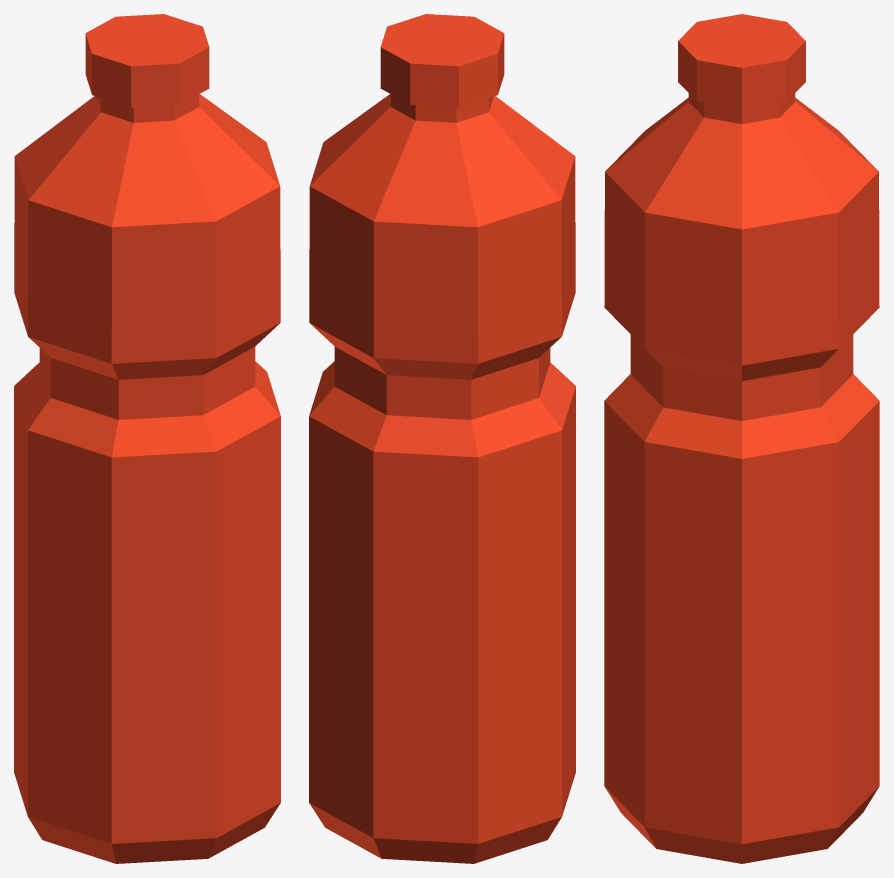
Rendered from SM_Bottle_City.fbx.
The picture shows the model from 3 angles, left to right: view 1: azimuth 30°, elevation 25°; view 2: azimuth 150°, elevation 25°; view 3: azimuth 270°, elevation 25°; orthographic projection.
Parts seen in each view (by area): view 1: SM_Bottle_City; view 2: SM_Bottle_City; view 3: SM_Bottle_City.
Boxes of the visible parts, x1,y1,x2,y2 form: SM_Bottle_City: (14, 14, 280, 863); SM_Bottle_City: (309, 14, 575, 863); SM_Bottle_City: (604, 14, 879, 863).
Size of the model in its own units: 0.1077 by 0.3331 by 0.1077.
